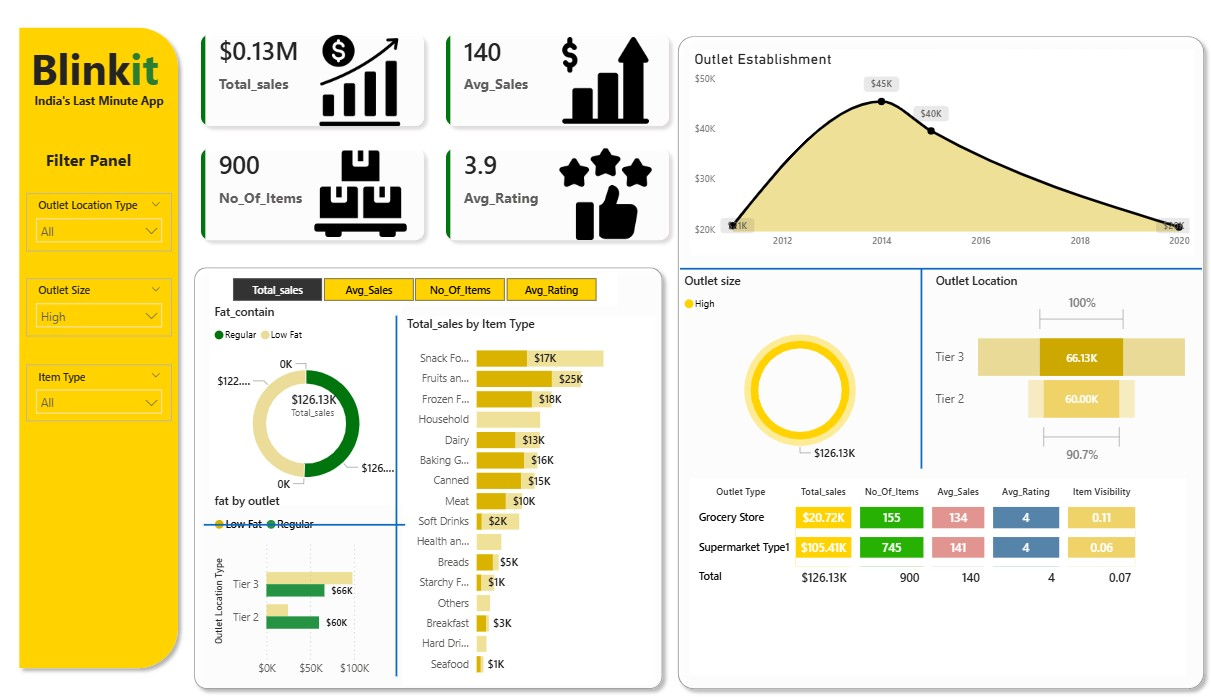

This screenshot's page, from the dashboard's own definition file:
{"tool":"powerbi","page":{"name":"Page 1","canvas":[1400,800],"ordinal":0},"visuals":[{"type":"shape","box":[19.1,25.4,199.7,750.4],"z":0},{"type":"textbox","box":[35.6,25.4,166.6,103],"z":1000},{"type":"textbox","box":[40.7,87.8,178.1,50.9],"z":2000},{"type":"cardVisual","fields":{"Data":["BlinkIT Grocery Data.Total_sales","BlinkIT Grocery Data.Avg_Sales","BlinkIT Grocery Data.No_Of_Items","BlinkIT Grocery Data.Avg_Rating"]},"box":[218.8,25.4,569.8,269.6],"z":3000},{"type":"shape","box":[218.8,300.1,553.2,499.8],"z":4000},{"type":"donutChart","title":"Fat_contain","fields":{"Y":["BlinkIT Grocery Data.Total_sales","BlinkIT Grocery Data.Avg_Sales"],"Category":["BlinkIT Grocery Data.Item Fat Content"]},"box":[245.5,349.7,220,230.2],"z":5000},{"type":"slicer","fields":{"Values":["matrics.matrics"]},"box":[245.5,314.1,465.5,39.4],"z":6000},{"type":"cardVisual","fields":{"Data":["BlinkIT Grocery Data.Total_sales"]},"box":[321.8,419.7,123.4,92.8],"z":7000},{"type":"clusteredBarChart","title":"fat by outlet","fields":{"Y":["BlinkIT Grocery Data.Total_sales"],"Category":["BlinkIT Grocery Data.Outlet Location Type"],"Series":["BlinkIT Grocery Data.Item Fat Content"]},"box":[245.5,566,220,220],"z":8000},{"type":"shape","box":[414.6,363.7,89,412.1],"z":9000},{"type":"barChart","fields":{"Y":["BlinkIT Grocery Data.Total_sales"],"Category":["BlinkIT Grocery Data.Item Type"]},"box":[465.5,363.7,288.7,422.2],"z":10000},{"type":"shape","box":[772,35.6,619.4,764.4],"z":11000},{"type":"lineChart","title":"Outlet Establishment","fields":{"Y":["BlinkIT Grocery Data.Total_sales"],"Category":["BlinkIT Grocery Data.Outlet Establishment Year"]},"box":[793.6,59.8,576.1,235.3],"z":12000},{"type":"shape","box":[783.4,256.9,596.5,106.8],"z":13000},{"type":"donutChart","title":"Outlet size","fields":{"Y":["BlinkIT Grocery Data.Total_sales"],"Category":["BlinkIT Grocery Data.Outlet Size"]},"box":[783.4,314.1,274.7,225.1],"z":14000},{"type":"shape","box":[1013.6,310.3,89,228.9],"z":15000},{"type":"funnel","title":" Outlet Location","fields":{"Category":["BlinkIT Grocery Data.Outlet Location Type"],"Y":["Sum(BlinkIT Grocery Data.Sales)"]},"box":[1069.6,314.1,300.1,225.1],"z":16000},{"type":"shape","box":[238.9,593.8,230.2,17.8],"z":17000},{"type":"pivotTable","fields":{"Values":["BlinkIT Grocery Data.Total_sales","BlinkIT Grocery Data.No_Of_Items","BlinkIT Grocery Data.Avg_Sales","BlinkIT Grocery Data.Avg_Rating","Avg(BlinkIT Grocery Data.Item Visibility)"],"Rows":["BlinkIT Grocery Data.Outlet Type"]},"box":[793.6,550.7,567.2,225.1],"z":18000},{"type":"slicer","fields":{"Values":["BlinkIT Grocery Data.Outlet Location Type"]},"box":[35,223.8,166.2,66.2],"z":18001},{"type":"slicer","fields":{"Values":["BlinkIT Grocery Data.Outlet Size"]},"box":[36.2,321.2,166.2,66.2],"z":18002},{"type":"slicer","fields":{"Values":["BlinkIT Grocery Data.Item Type"]},"box":[36.2,420,166.2,65],"z":18003},{"type":"textbox","box":[52.5,168.8,132.5,38.8],"z":18004}]}

Visuals, with their boxes in screenshot pixels (x1, y1, x2, y2), scaled from the page's 1400x800 canvas onto the 1211x697 screenshot:
shape: locate(17, 22, 189, 676)
textbox: locate(31, 22, 175, 112)
textbox: locate(35, 76, 189, 121)
cardVisual - BlinkIT Grocery Data.Total_sales x BlinkIT Grocery Data.Avg_Sales: locate(189, 22, 682, 257)
shape: locate(189, 261, 668, 696)
"Fat_contain" donutChart: locate(212, 305, 403, 505)
slicer - matrics.matrics: locate(212, 274, 615, 308)
cardVisual - BlinkIT Grocery Data.Total_sales: locate(278, 366, 385, 447)
"fat by outlet" clusteredBarChart: locate(212, 493, 403, 685)
shape: locate(359, 317, 436, 676)
barChart - BlinkIT Grocery Data.Total_sales x BlinkIT Grocery Data.Item Type: locate(403, 317, 652, 685)
shape: locate(668, 31, 1204, 696)
"Outlet Establishment" lineChart: locate(686, 52, 1185, 257)
shape: locate(678, 224, 1194, 317)
"Outlet size" donutChart: locate(678, 274, 915, 470)
shape: locate(877, 270, 954, 470)
" Outlet Location" funnel: locate(925, 274, 1185, 470)
shape: locate(207, 517, 406, 533)
pivotTable - BlinkIT Grocery Data.Total_sales x BlinkIT Grocery Data.No_Of_Items: locate(686, 480, 1177, 676)
slicer - BlinkIT Grocery Data.Outlet Location Type: locate(30, 195, 174, 253)
slicer - BlinkIT Grocery Data.Outlet Size: locate(31, 280, 175, 338)
slicer - BlinkIT Grocery Data.Item Type: locate(31, 366, 175, 423)
textbox: locate(45, 147, 160, 181)
